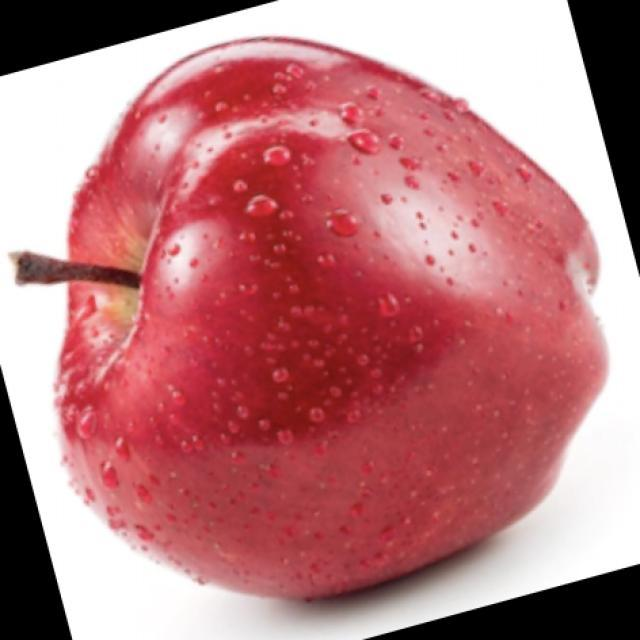Fresh Apple: (56, 41, 612, 596)
